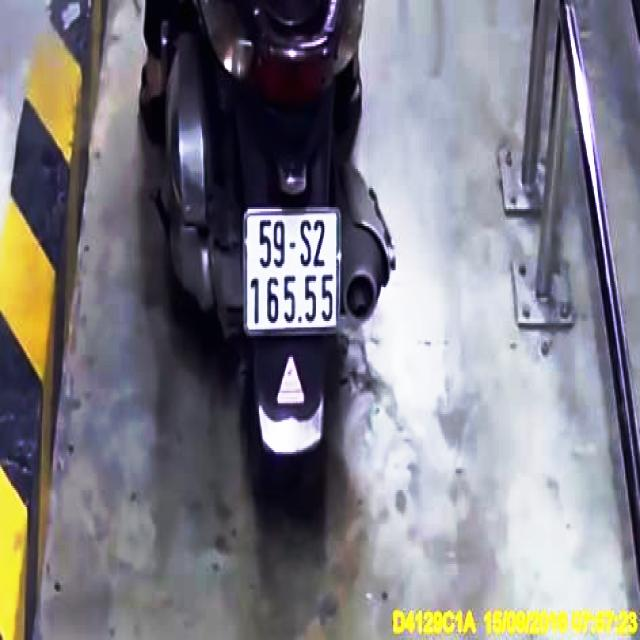license_plate: (246, 212, 341, 330)
